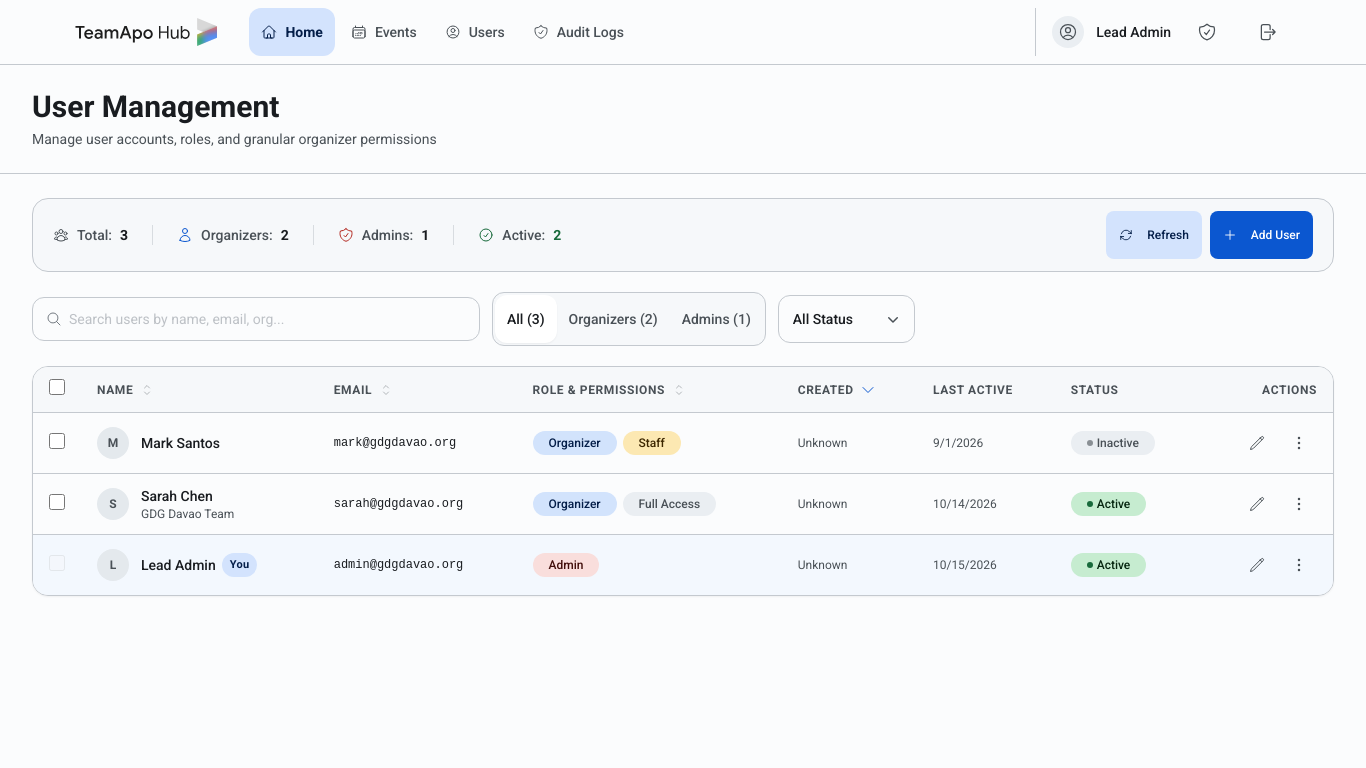
Test: Modernized UsersPage & Components › filters users via SegmentedControl role selection
Check: the text "Sarah Chen" is shown, box top-left (141, 486), bottom-right (213, 506)
# Click "Admins (1)" radio option in SegmentedControl
Click the radio button labelled "Admins (1)". click: click(716, 319)
box: top-left (670, 295), bottom-right (763, 343)
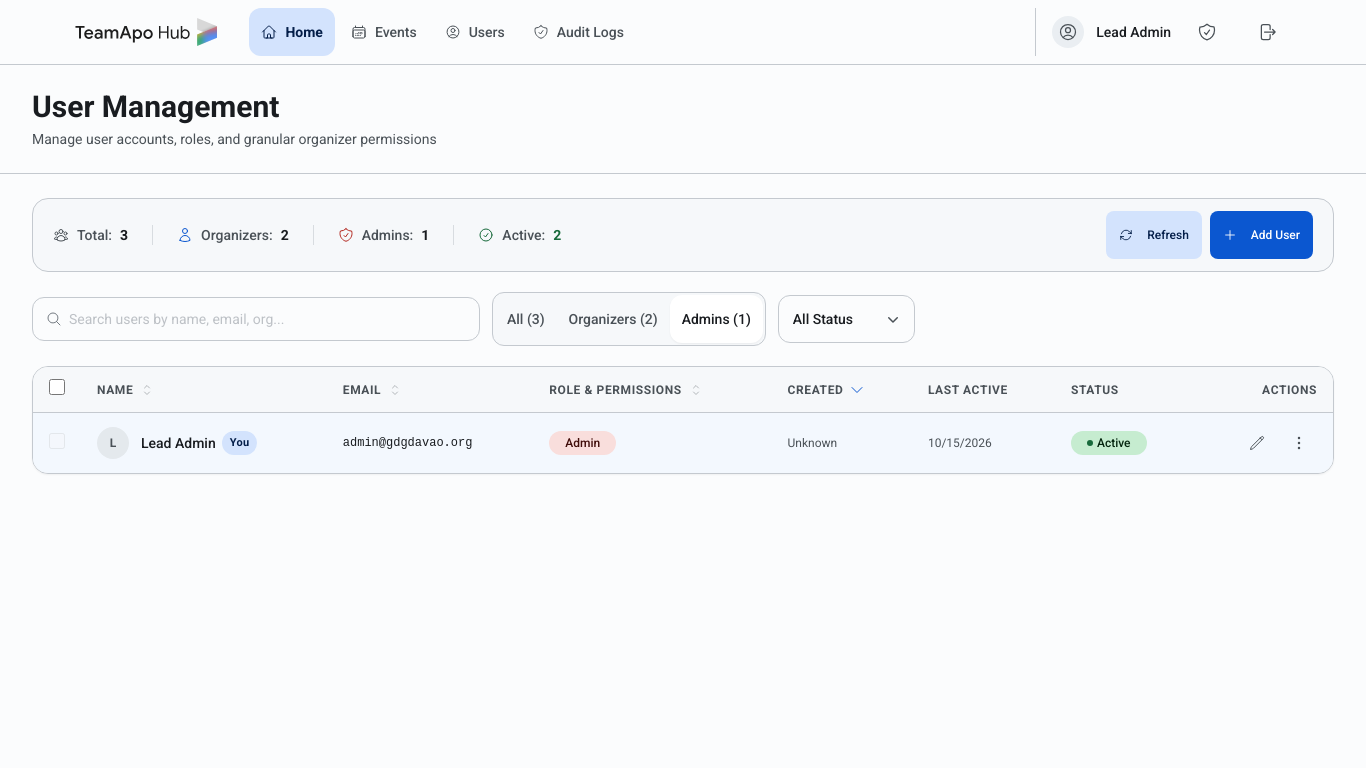
Check: the text "Lead Admin" next to "You" is shown, box top-left (141, 435), bottom-right (216, 451)
Check: the text "Sarah Chen" is gone
Check: the text "Mark Santos" is gone
